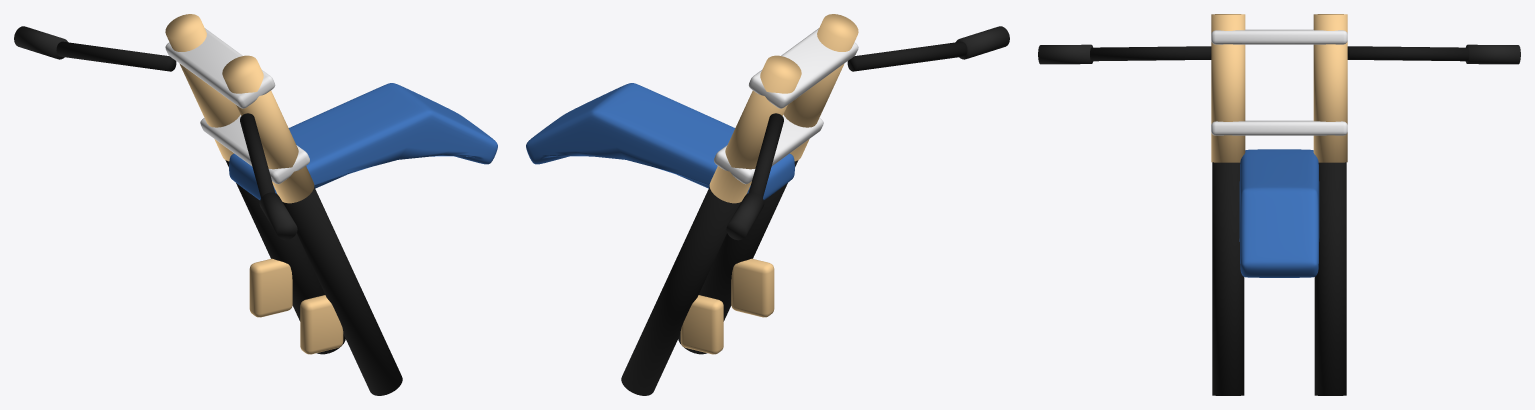
File: SPORT1000_Sterzo.glb
3 views of the same model, side by side, from view 1: azimuth 30°, elevation 25°; view 2: azimuth 150°, elevation 25°; view 3: azimuth 270°, elevation 25° (orthographic). The views are drawn at different scales.
Visible parts, largest first — view 1: SPORT1000_Sterzo; view 2: SPORT1000_Sterzo; view 3: SPORT1000_Sterzo.
Part boxes in pixels (box(x1,y1,x2,y2)): SPORT1000_Sterzo: box(14, 14, 497, 395); SPORT1000_Sterzo: box(526, 14, 1009, 395); SPORT1000_Sterzo: box(1038, 14, 1520, 395).
Bounding box in the file's own units: 0.6101 × 0.6373 × 0.8482.
